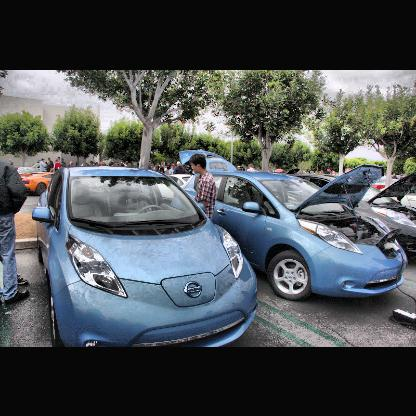Nissan Leaf Hatchback 2012: (33, 165, 262, 346)
